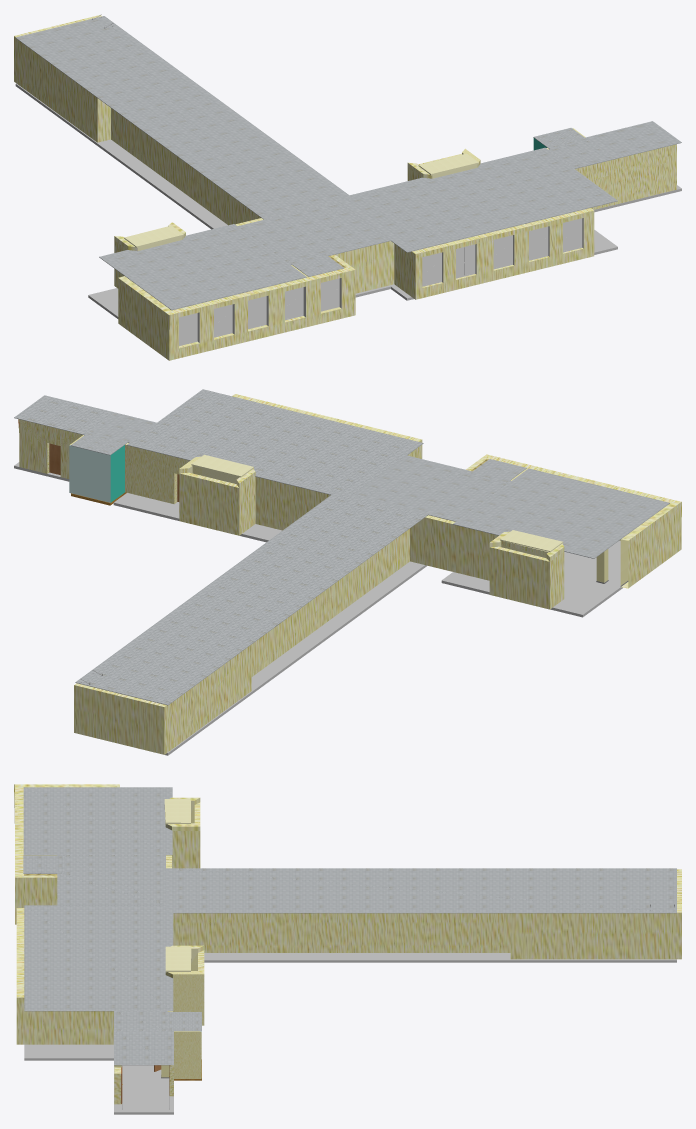
Rendered from corridor.fbx.
The picture shows the model from 3 angles, top to bottom: view 1: azimuth 30°, elevation 25°; view 2: azimuth 150°, elevation 25°; view 3: azimuth 270°, elevation 25°; orthographic projection. The views are drawn at different scales.
Visible parts, largest first — view 1: Cube.283, Cube.279, Cube.281, Plane.037, Plane.033, Cube.280, Plane.008, Plane.011, Plane.031, Plane.002, Cube.021, Cube.277 (+9 smaller); view 2: Cube.283, Cube.279, Cube.281, Cube.280, Plane.008, Plane.012, Plane.011, Plane.007, Cube.019, Cube.021, Plane.002, Plane.019 (+17 smaller); view 3: Cube.283, Cube.279, Plane.016, Cube.281, Plane.013, Cube.280, Cube.021, Plane.032, Cube.277, Cube.015, Cube.017, Plane.024 (+10 smaller).
Boxes of the visible parts, x1,y1,x2,y2 form: Cube.283: (15, 16, 352, 219); Cube.279: (338, 147, 617, 252); Cube.281: (99, 224, 306, 310); Plane.037: (169, 267, 355, 360); Plane.033: (415, 209, 594, 299); Cube.280: (238, 202, 390, 264); Plane.008: (111, 108, 260, 225); Plane.011: (14, 36, 97, 142); Plane.031: (575, 144, 676, 209); Plane.002: (118, 276, 171, 360); Cube.021: (15, 83, 227, 229); Cube.277: (585, 121, 681, 159); Cube.283: (75, 492, 427, 705); Cube.279: (127, 389, 423, 495); Cube.281: (453, 468, 669, 558); Cube.280: (351, 455, 510, 521); Plane.008: (251, 528, 409, 676); Plane.012: (74, 684, 164, 754); Plane.011: (163, 644, 251, 754); Plane.007: (410, 515, 498, 580); Cube.019: (441, 540, 624, 617); Cube.021: (165, 561, 427, 755); Plane.002: (620, 501, 681, 588); Plane.019: (179, 472, 239, 535); Cube.283: (166, 868, 676, 913); Cube.279: (24, 905, 173, 1011); Plane.016: (173, 913, 510, 952); Cube.281: (23, 787, 172, 855); Plane.013: (510, 911, 681, 959); Cube.280: (57, 855, 165, 905); Cube.021: (204, 953, 676, 962); Plane.032: (16, 995, 113, 1044); Cube.277: (114, 1030, 173, 1065); Cube.015: (114, 1078, 173, 1114); Cube.017: (24, 1044, 113, 1060); Plane.024: (161, 1031, 201, 1078).
Size of the model in its own units: 2252 by 205 by 2262.
